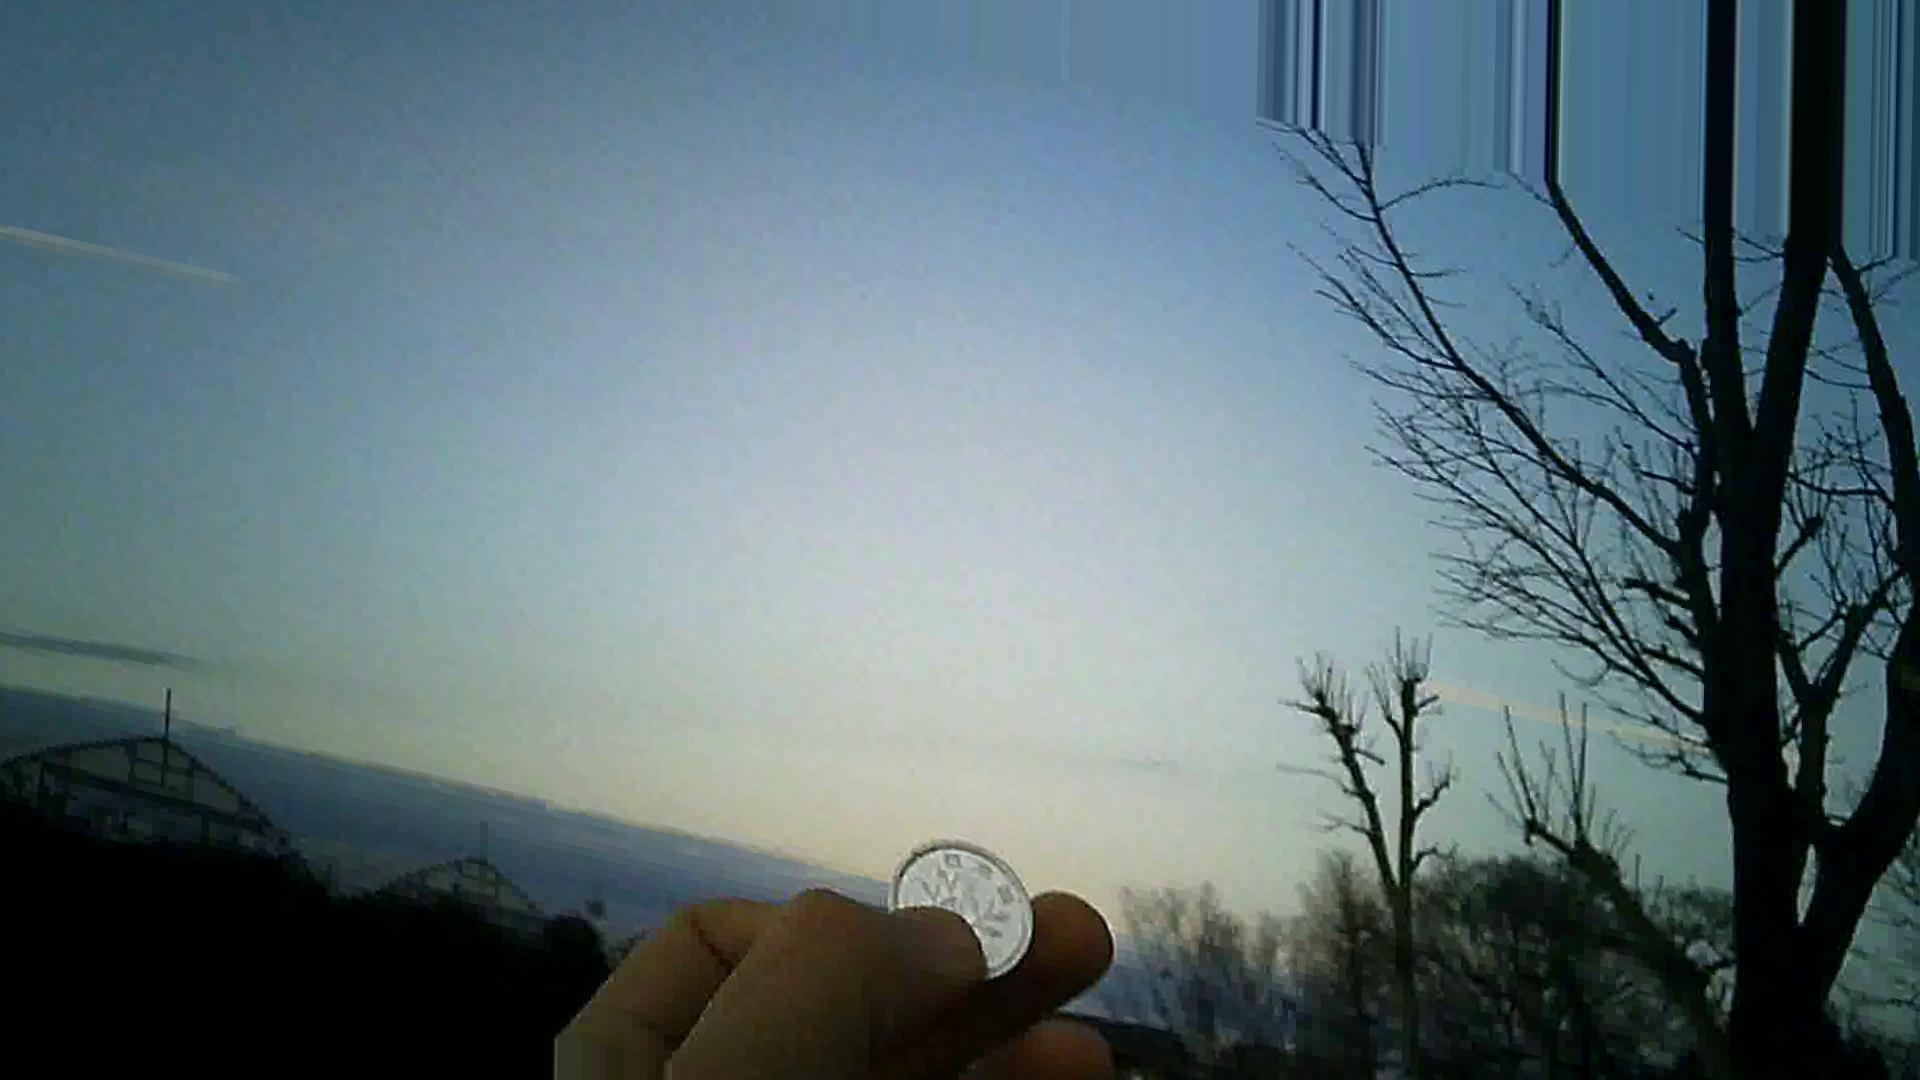1 Yen: (880, 825, 1059, 980)
